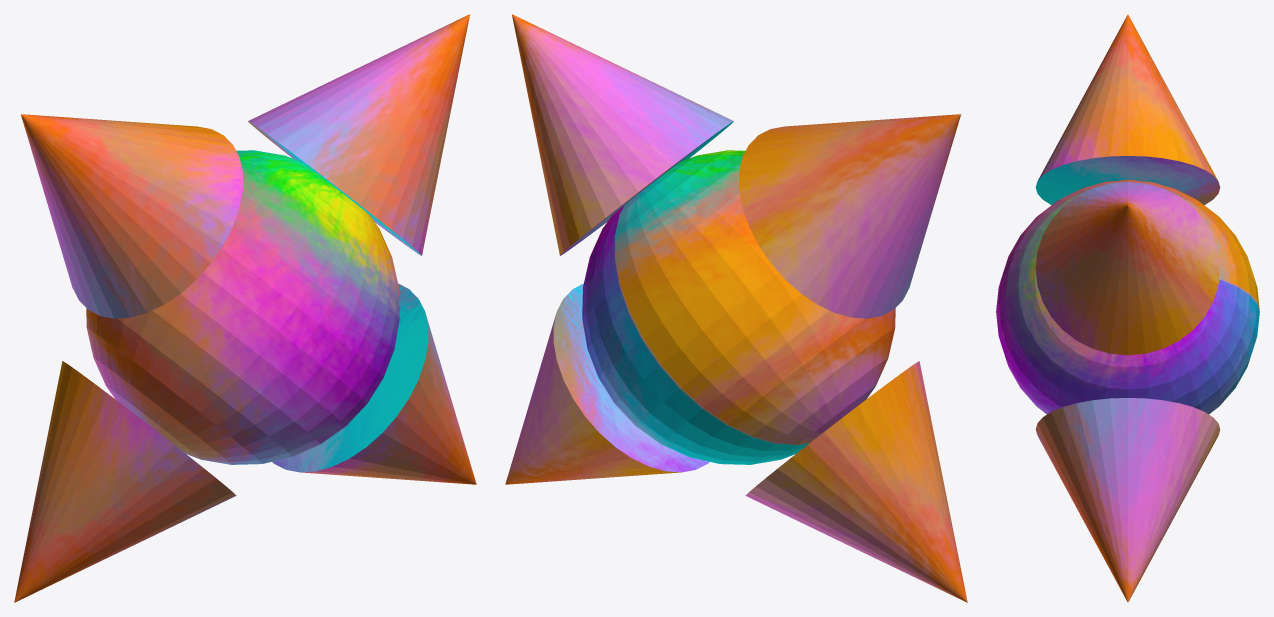
The model's file is enearch.obj.
3 views of the same model, side by side, from view 1: azimuth 30°, elevation 25°; view 2: azimuth 150°, elevation 25°; view 3: azimuth 270°, elevation 25° (orthographic). The views are drawn at different scales.
Parts seen in each view (by area): view 1: 円錐.003_円錐.004; view 2: 円錐.003_円錐.004; view 3: 円錐.003_円錐.004.
Part boxes in pixels (x1,y1,x2,y2): 円錐.003_円錐.004: (14, 14, 476, 602); 円錐.003_円錐.004: (505, 14, 967, 602); 円錐.003_円錐.004: (996, 14, 1259, 602).
Bounding box in the file's own units: 0.9672 × 0.9735 × 0.5714.
Materials: 1 (1 with a texture image).
